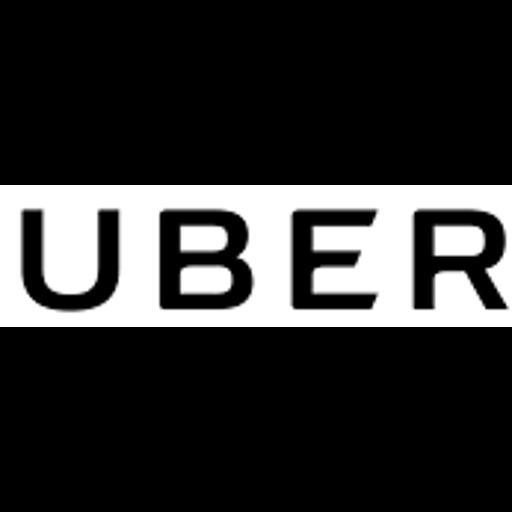Uber: (0, 185, 512, 327)
